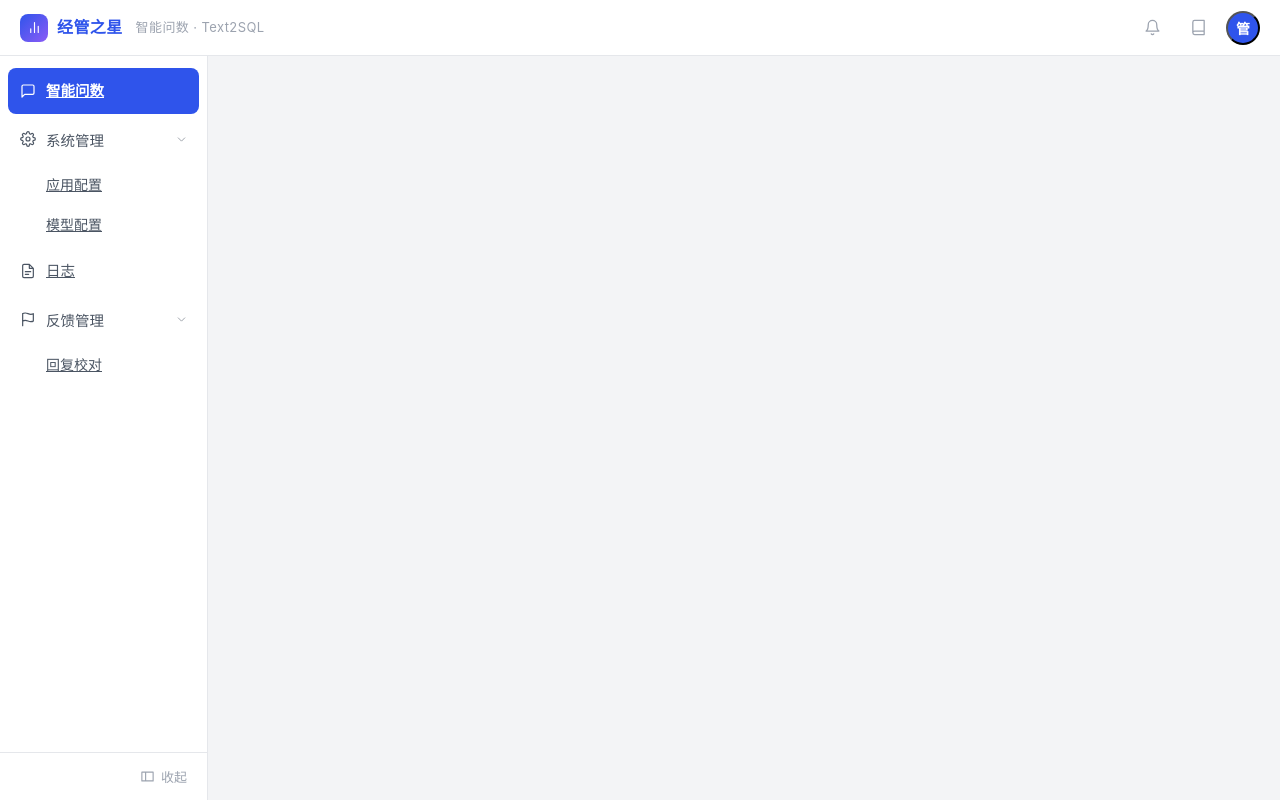
Test: AppShell — 账号菜单 › 默认收起，点击后展示账号与后端模型状态
Check: the text "本地演示账号" is not shown
Click the button named "账号菜单" at (1243, 28), box 1226,10 -> 1260,44
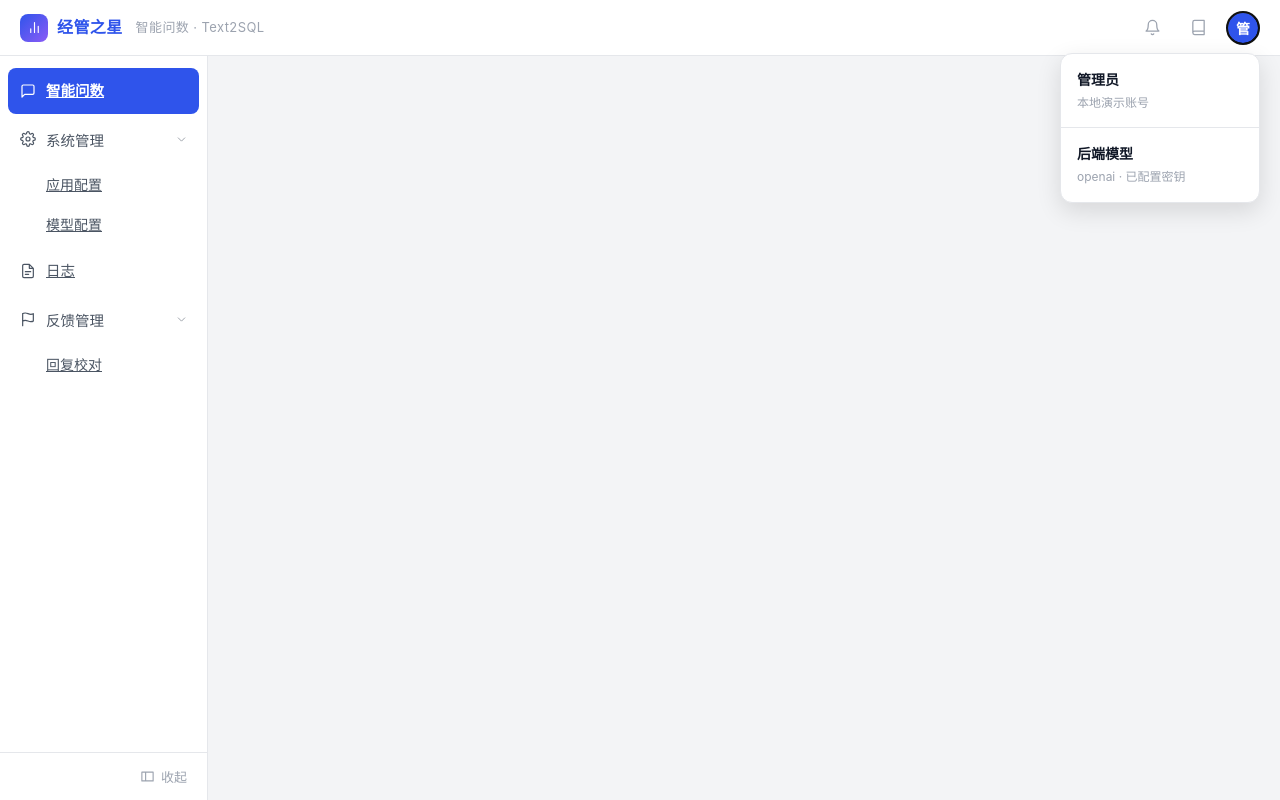
Check: the text "管理员" is shown, box 1077,70 -> 1119,88
Check: the text "本地演示账号" is shown, box 1077,95 -> 1149,110
Check: the text "openai · 已配置密钥" is shown, box 1077,170 -> 1186,184
